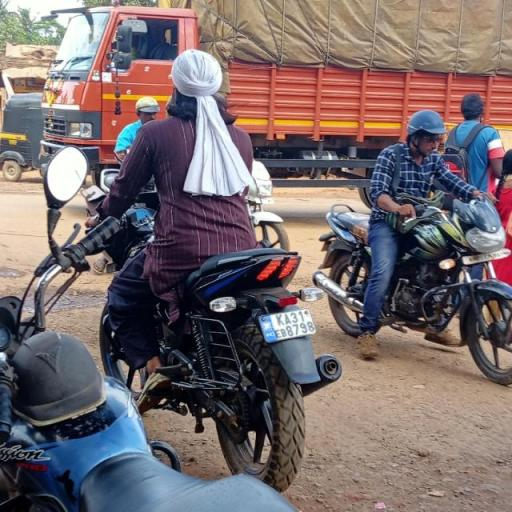bike: (84, 45, 348, 492)
numberplate: (252, 300, 324, 346)
withouthelmet: (168, 52, 226, 110)
